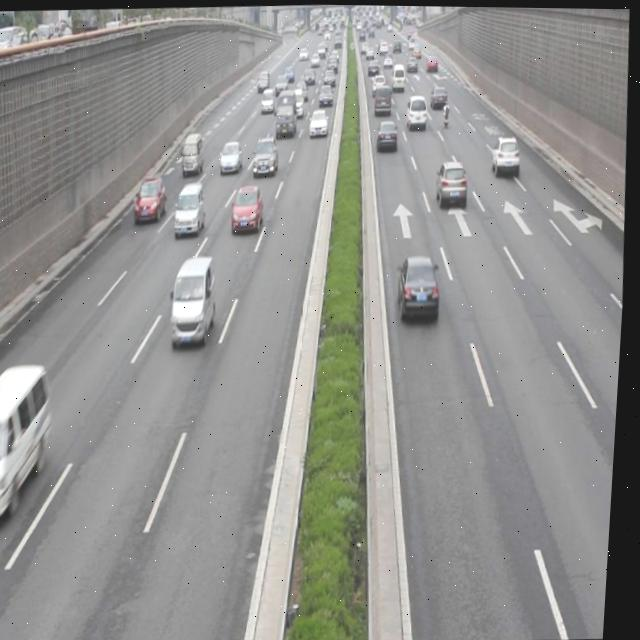car: (397, 251, 445, 321), (231, 182, 267, 234), (133, 173, 170, 221), (435, 158, 470, 207), (491, 132, 521, 174), (252, 135, 281, 176), (219, 137, 245, 174), (377, 119, 401, 152), (309, 107, 329, 135)
truck: (0, 362, 60, 518), (171, 255, 222, 347), (173, 179, 209, 236), (273, 88, 300, 137), (181, 129, 208, 173), (404, 91, 429, 128)
